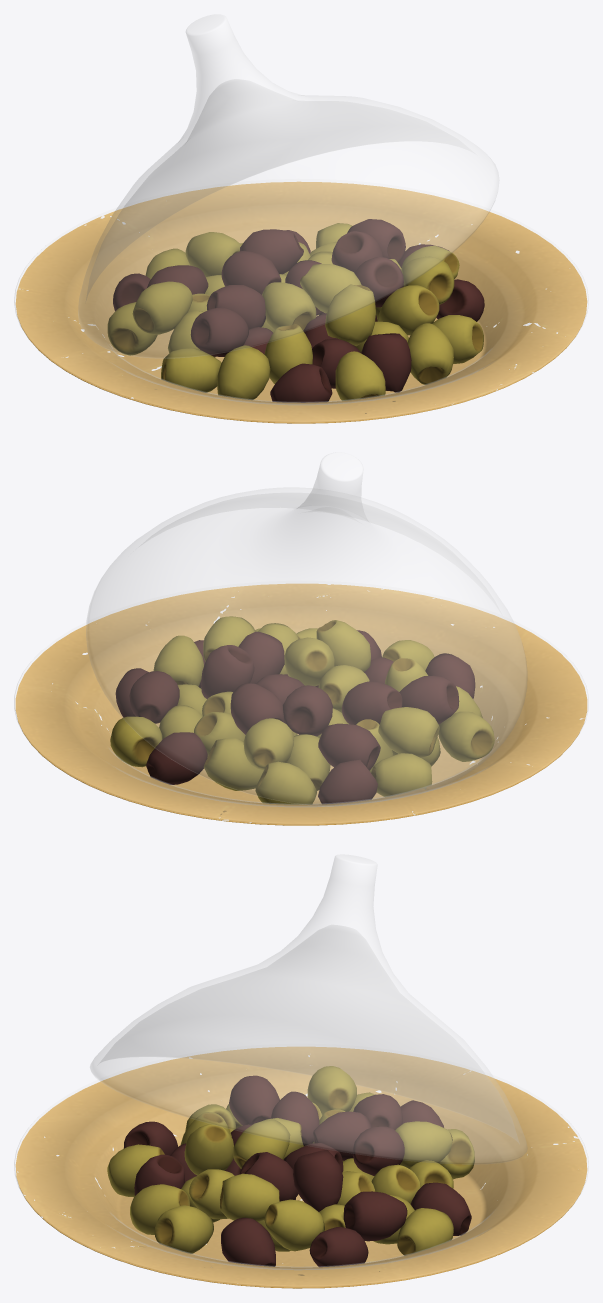
File: dish_olives.glb
The picture shows the model from 3 angles, top to bottom: view 1: azimuth 30°, elevation 25°; view 2: azimuth 150°, elevation 25°; view 3: azimuth 270°, elevation 25°; orthographic projection.
Visible parts, largest first — view 1: glassCover, goldLeaf, glassDish, olives; view 2: glassCover, glassDish, goldLeaf, olives; view 3: glassCover, goldLeaf, olives, glassDish.
Part boxes in pixels (x1=…): glassCover: x1=78, y1=14, x2=499, y2=358; goldLeaf: x1=15, y1=181, x2=587, y2=423; glassDish: x1=14, y1=179, x2=588, y2=422; olives: x1=107, y1=219, x2=484, y2=402; glassCover: x1=86, y1=452, x2=527, y2=805; glassDish: x1=14, y1=581, x2=588, y2=824; goldLeaf: x1=15, y1=583, x2=587, y2=825; olives: x1=110, y1=616, x2=494, y2=804; glassCover: x1=90, y1=854, x2=527, y2=1164; goldLeaf: x1=15, y1=1047, x2=587, y2=1288; olives: x1=107, y1=1066, x2=474, y2=1267; glassDish: x1=14, y1=1057, x2=588, y2=1287.
Bounding box in the file's own units: 0.4593 × 0.2855 × 0.4593.
Materials: 4 (2 with a texture image).
